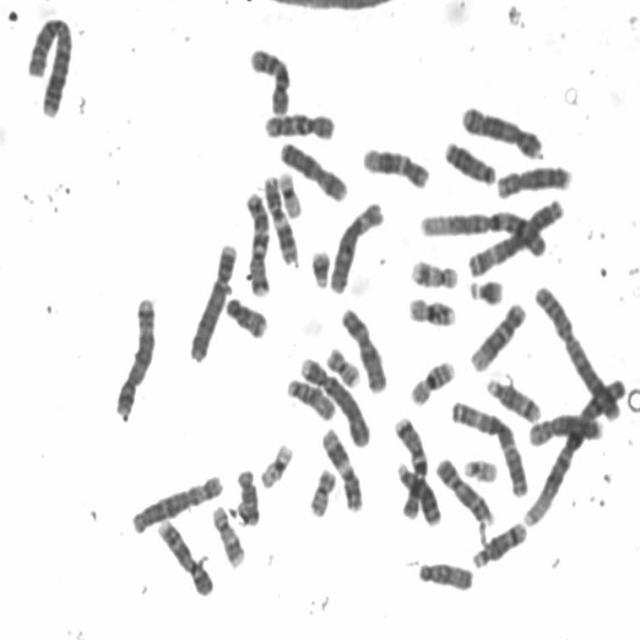A1: (520, 371, 628, 530), (416, 207, 550, 257)
A2: (531, 281, 622, 423), (24, 14, 74, 118)
A3: (448, 396, 530, 498), (465, 196, 565, 278)
B4: (296, 353, 372, 449), (185, 240, 239, 365)
B5: (112, 293, 157, 417), (458, 102, 544, 161)
C10: (247, 44, 292, 117), (262, 110, 335, 140)
C11: (318, 424, 365, 514), (260, 170, 300, 267)
C12: (467, 299, 528, 374), (358, 143, 431, 190)
C6: (127, 469, 225, 535), (327, 198, 385, 295)
C7: (394, 415, 429, 520), (243, 188, 271, 300)
C8: (494, 161, 572, 200), (525, 412, 605, 448)
C9: (155, 517, 214, 597), (432, 456, 495, 526)
D13: (394, 459, 442, 526), (441, 137, 497, 188)
D14: (470, 518, 528, 570), (485, 376, 542, 424)
D15: (284, 376, 337, 422), (414, 556, 474, 593)
E16: (405, 356, 458, 408), (404, 294, 458, 329)
E17: (210, 502, 247, 570), (407, 256, 459, 291)
E18: (223, 292, 269, 340), (233, 466, 261, 528)
F19: (256, 439, 295, 489), (275, 168, 303, 220)
F20: (322, 342, 362, 389), (306, 466, 338, 520)
G21: (466, 274, 506, 308), (307, 246, 332, 290)
G22: (460, 454, 499, 484)
X: (277, 138, 349, 204), (338, 304, 388, 394)
